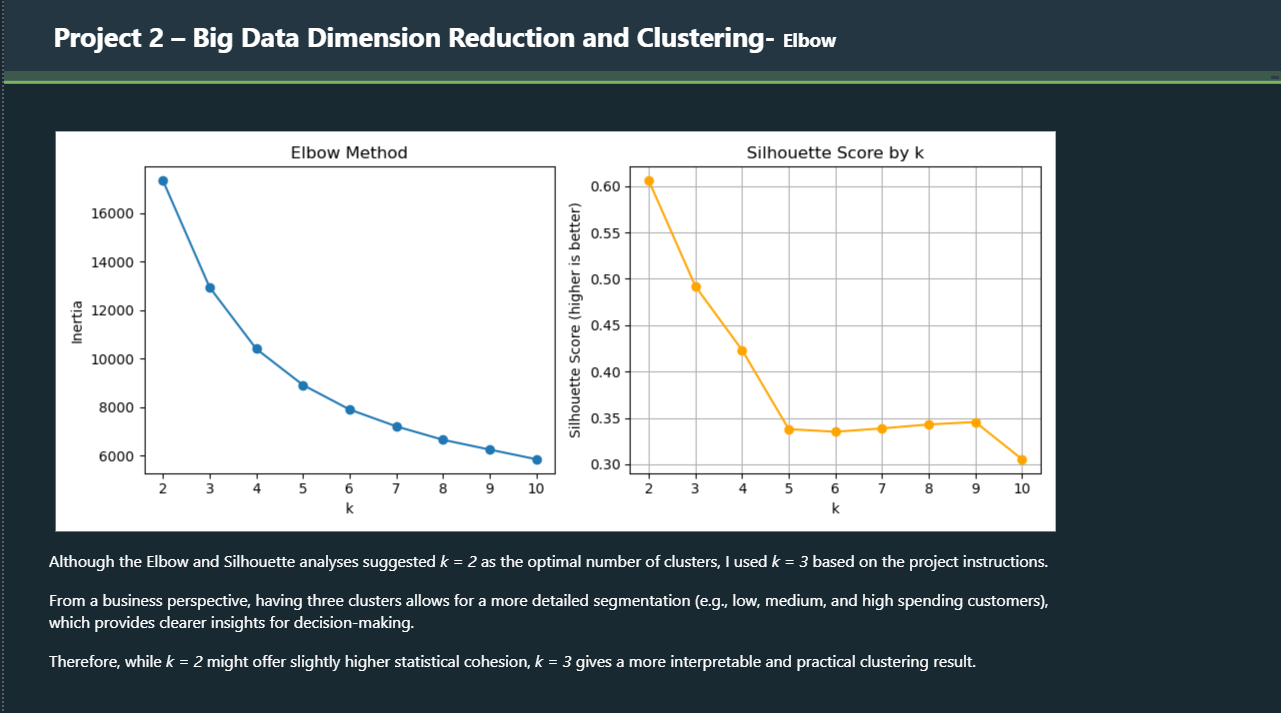

What the dashboard file says about the page in this screenshot:
{"tool":"powerbi","page":{"name":"Elbow","canvas":[1280,720],"ordinal":4},"visuals":[{"type":"textbox","box":[0,75.6,1280.2,12.8],"z":0},{"type":"pythonVisual","fields":{"Values":["pca_df.PC1","pca_df.PC2","pca_df.PC3","pca_df.PC4"]},"box":[21.6,125.3,1060.4,421.1],"z":1000},{"type":"textbox","box":[39.5,548.8,1025.6,170.9],"z":2000},{"type":"textbox","box":[0,0,1280.2,84.9],"z":3000}]}

Visuals, with their boxes in screenshot pixels (x1, y1, x2, y2), scaled from the page's 1280x720 canvas onto the 1281x713 screenshot:
textbox: left=0, top=75, right=1280, bottom=88
pythonVisual - pca_df.PC1 x pca_df.PC2: left=22, top=124, right=1083, bottom=541
textbox: left=40, top=543, right=1066, bottom=712
textbox: left=0, top=0, right=1280, bottom=84
